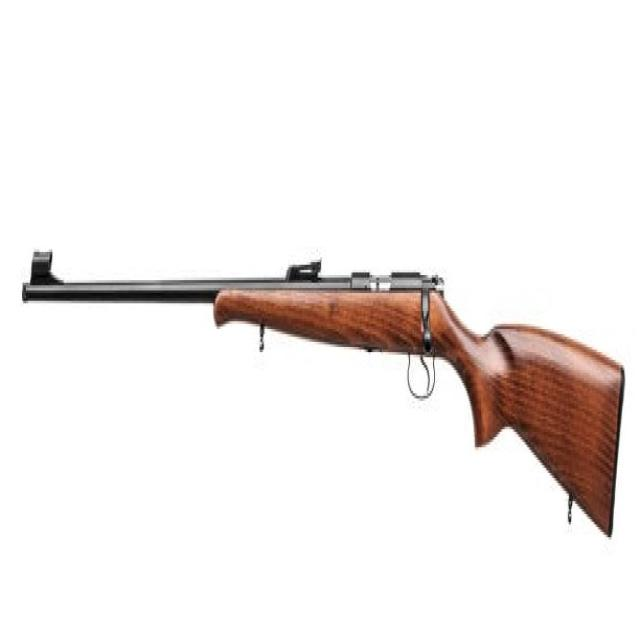rifle: (19, 233, 628, 552)
